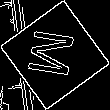M_E: (26, 28, 84, 82)
